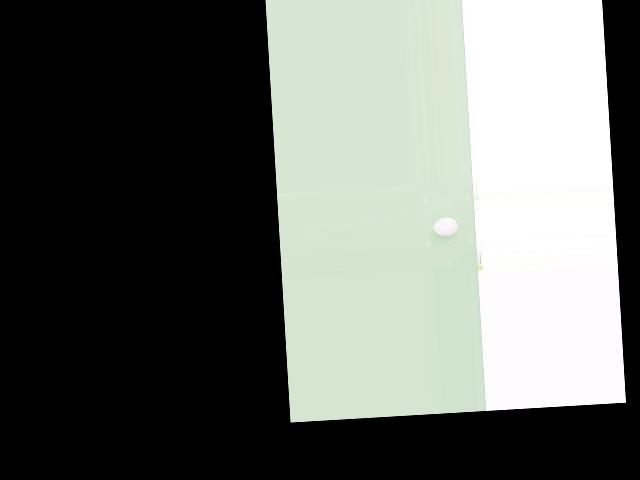egg: (433, 216, 458, 236)
